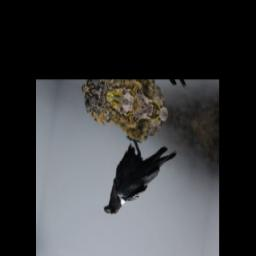Crow: (102, 126, 179, 238)
